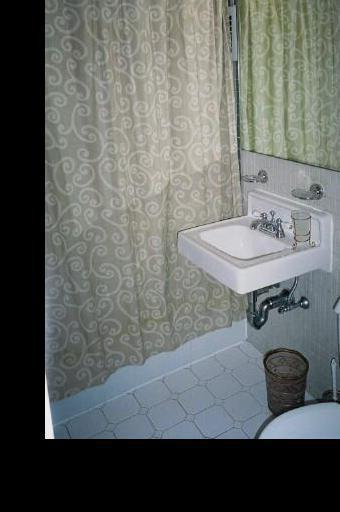Bote de Basura: (253, 347, 310, 414)
Ducha: (50, 0, 227, 392)
Lavamanos: (169, 195, 326, 322)
Sanitario: (253, 283, 340, 437)
